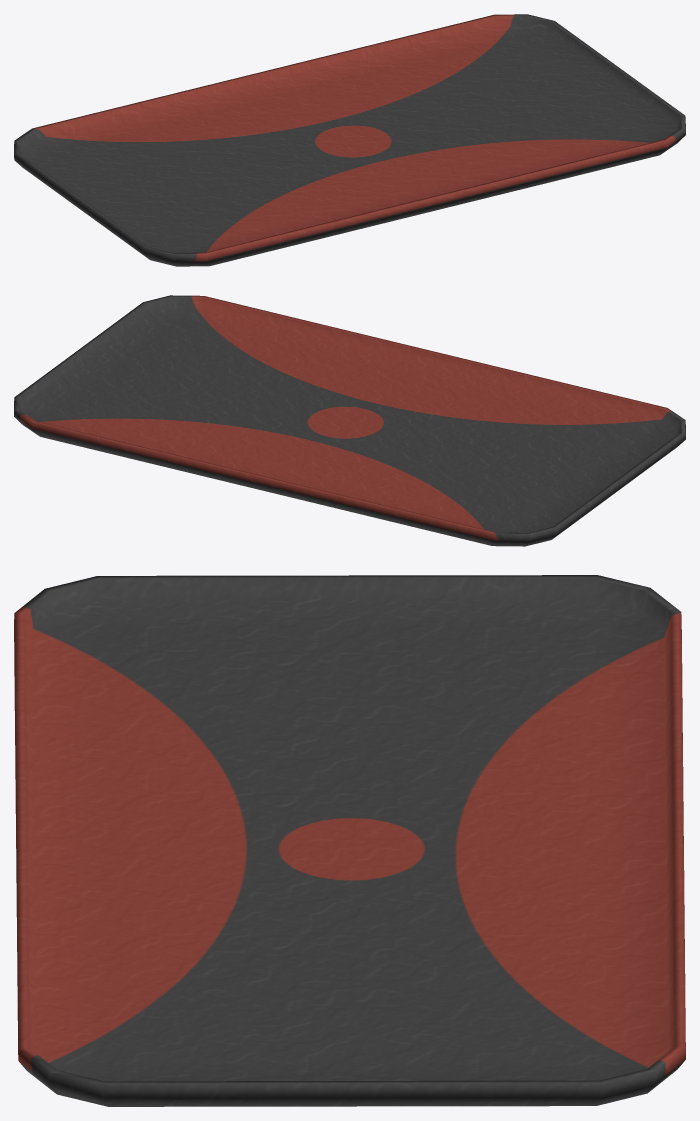
Rendered from Big_Plate.fbx.
The picture shows the model from 3 angles, top to bottom: view 1: azimuth 30°, elevation 25°; view 2: azimuth 150°, elevation 25°; view 3: azimuth 270°, elevation 25°; orthographic projection. The views are drawn at different scales.
Parts seen in each view (by area): view 1: Big_Plate; view 2: Big_Plate; view 3: Big_Plate.
Part boxes in pixels (<box>): Big_Plate: <box>14,14,685,266</box>; Big_Plate: <box>14,295,685,546</box>; Big_Plate: <box>14,575,685,1106</box>.
Size of the model in its own units: 81.51 by 2.06 by 45.3.
